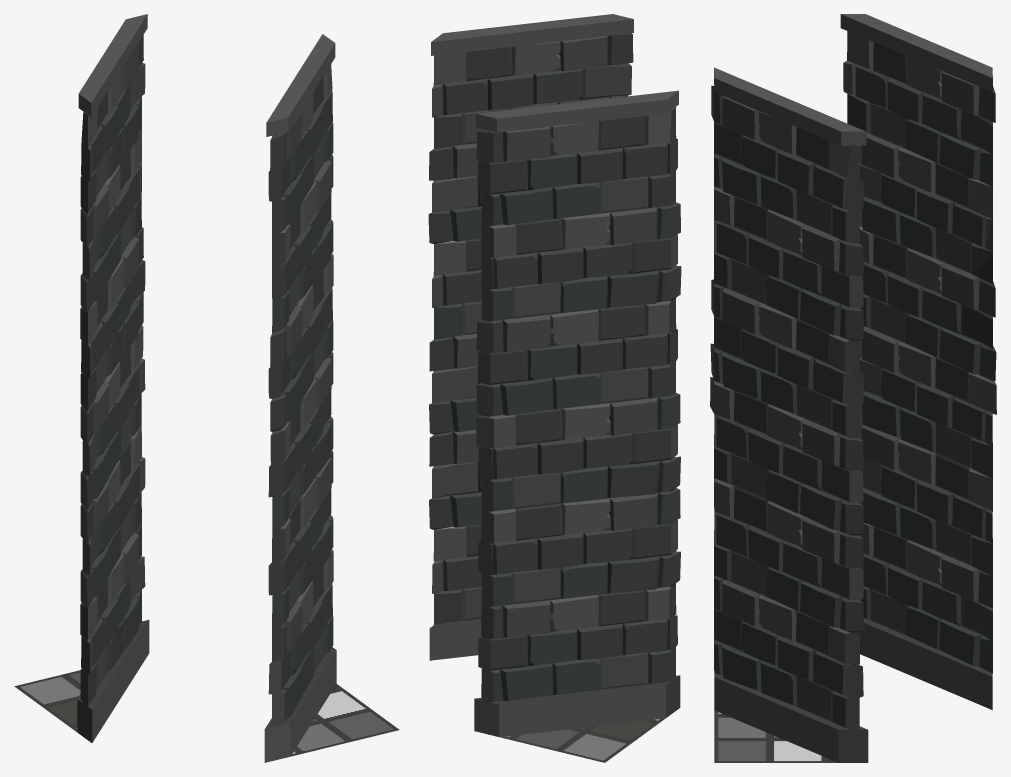
File: Dungeon_Tilemap_06.gltf
3 views of the same model, side by side, from view 1: azimuth 30°, elevation 25°; view 2: azimuth 150°, elevation 25°; view 3: azimuth 270°, elevation 25° (orthographic). The views are drawn at different scales.
Visible parts, largest first — view 1: Dungeon_Tilemap_06; view 2: Dungeon_Tilemap_06; view 3: Dungeon_Tilemap_06.
Boxes of the visible parts, x1,y1,x2,y2 form: Dungeon_Tilemap_06: [14, 14, 399, 762]; Dungeon_Tilemap_06: [428, 14, 681, 762]; Dungeon_Tilemap_06: [710, 14, 996, 762].
Bounding box in the file's own units: 1.03 × 2.5 × 1.03.
Materials: 2 (2 with a texture image).
